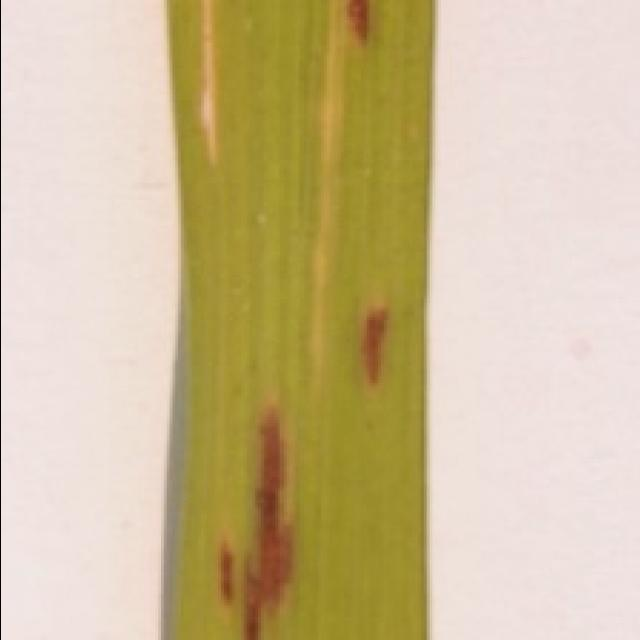Unhealthy: (239, 407, 303, 640), (193, 0, 219, 162), (360, 303, 395, 393), (214, 534, 238, 613), (347, 0, 370, 50)
